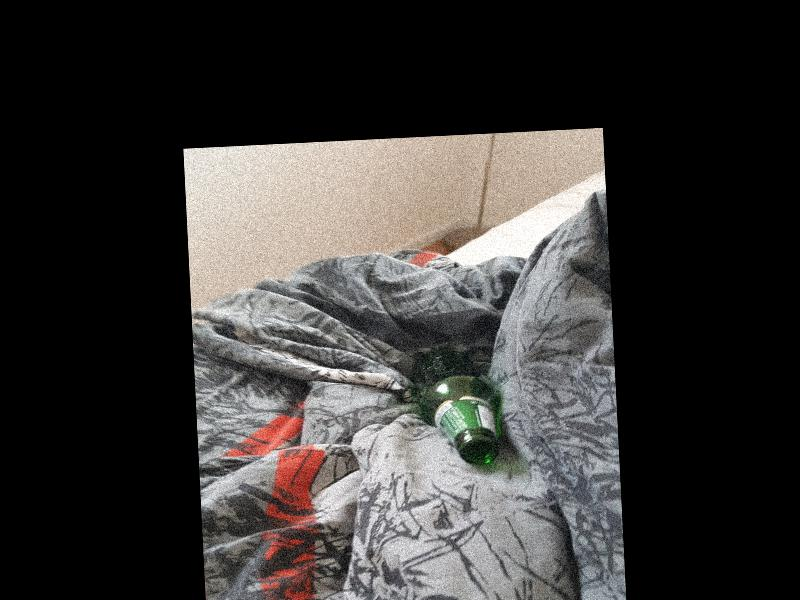Beer: (411, 345, 503, 468)
